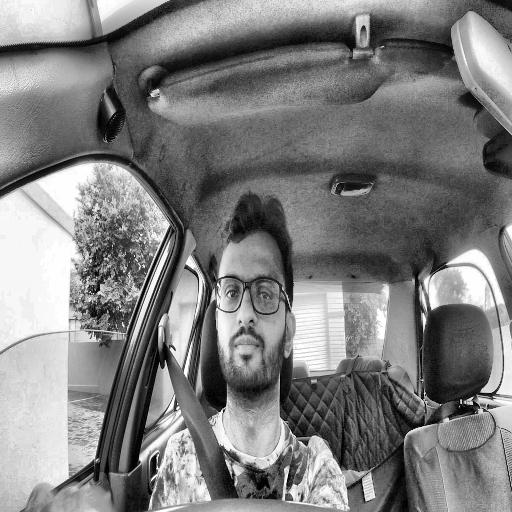awake: (215, 192, 296, 397)
